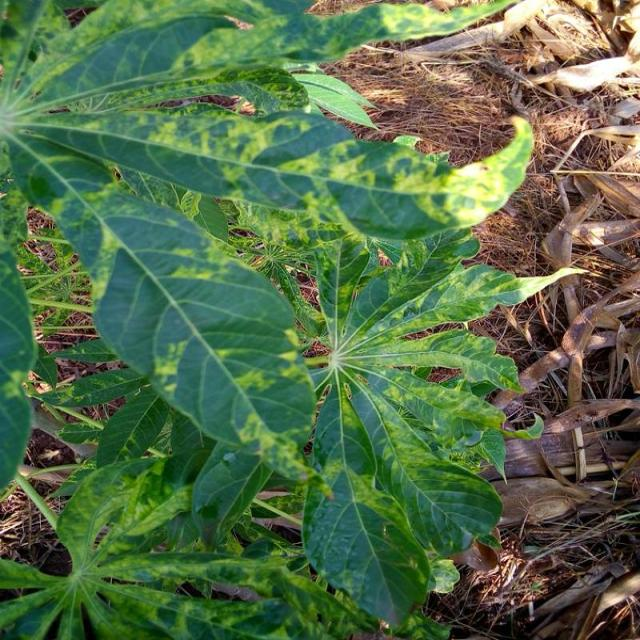cassava leaf: (2, 1, 582, 636)
